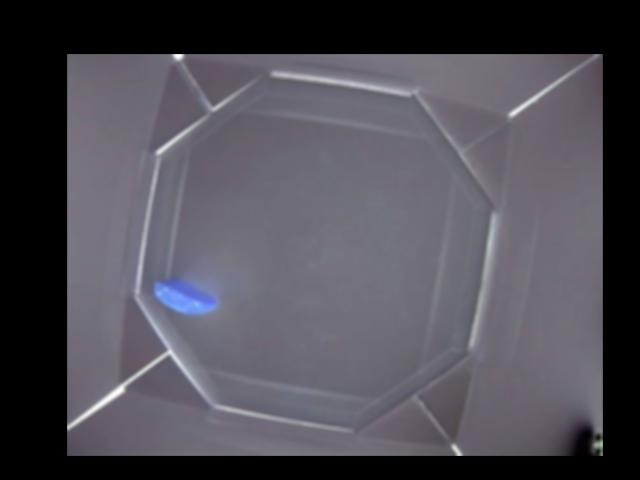Potato: (152, 277, 217, 316)
